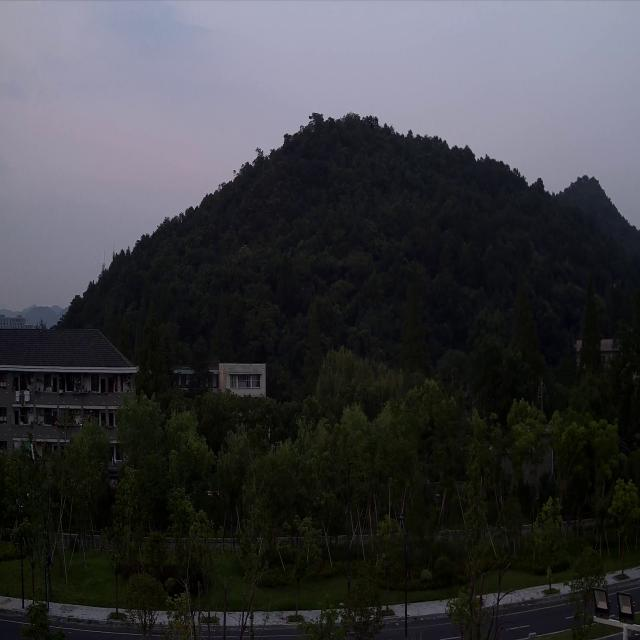UAV: (366, 120, 378, 129)
